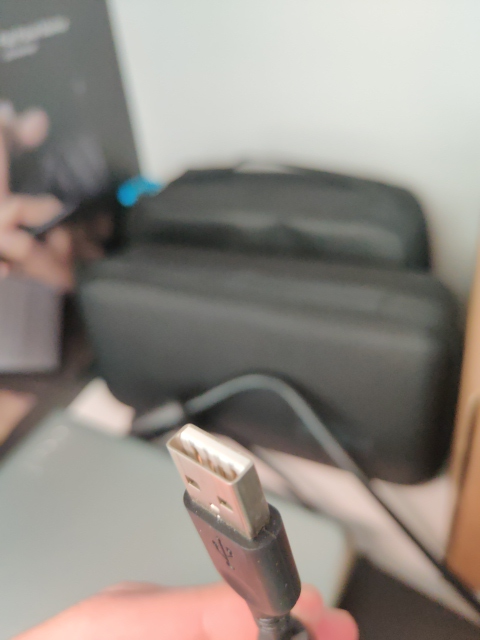USB: (165, 424, 272, 540)
